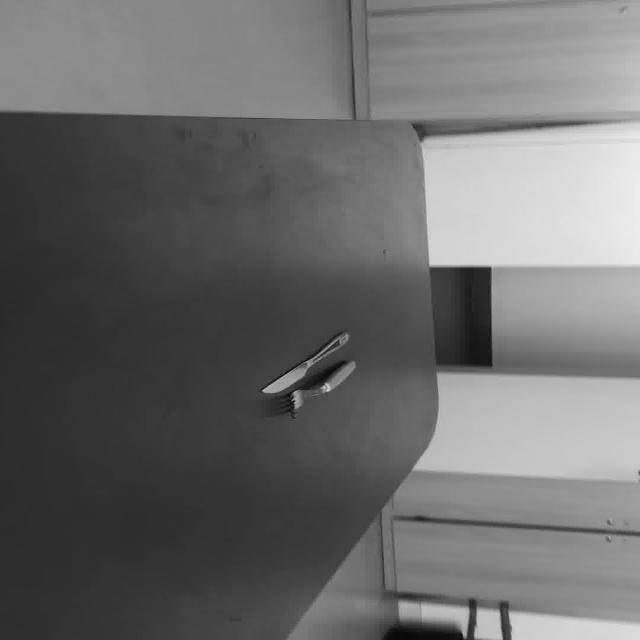fork: (283, 359, 356, 419)
knife fork: (258, 330, 350, 395)
